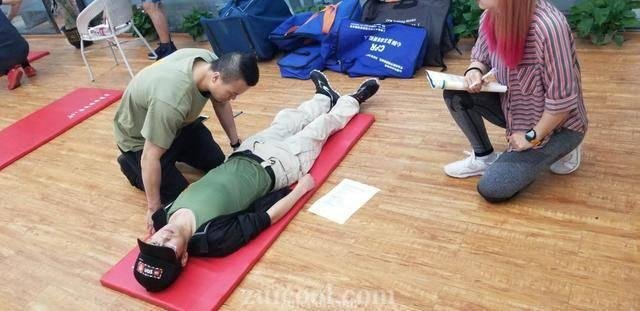bending: (426, 1, 599, 211), (106, 44, 247, 191)
down: (131, 70, 383, 293)
